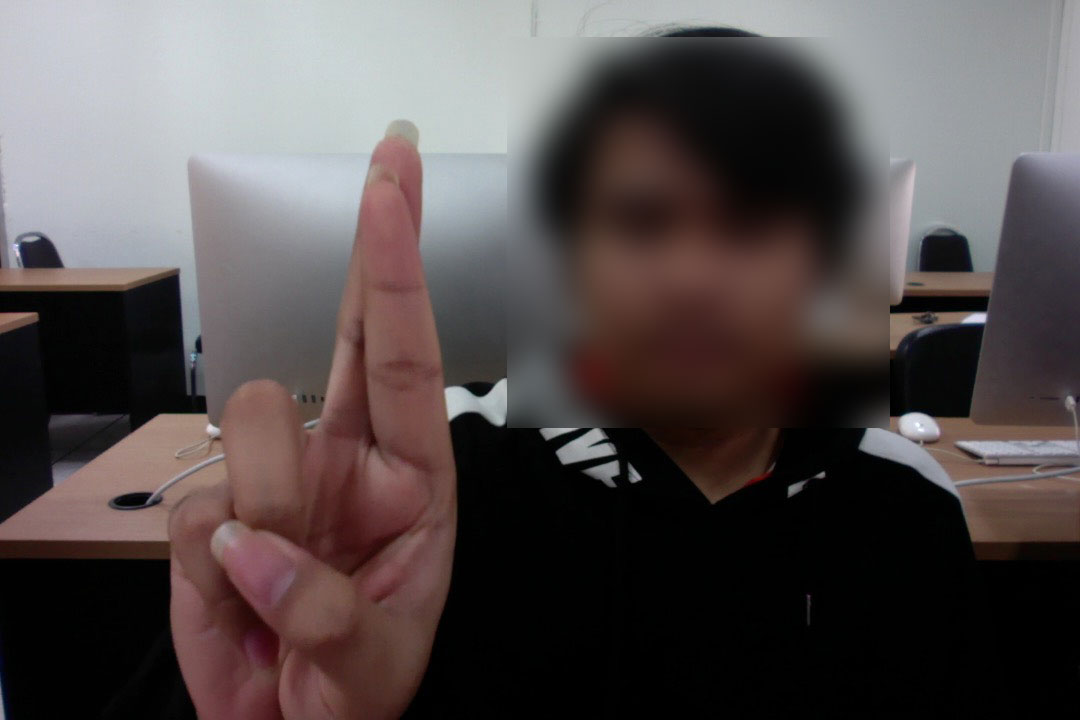rao: (147, 110, 465, 712)
